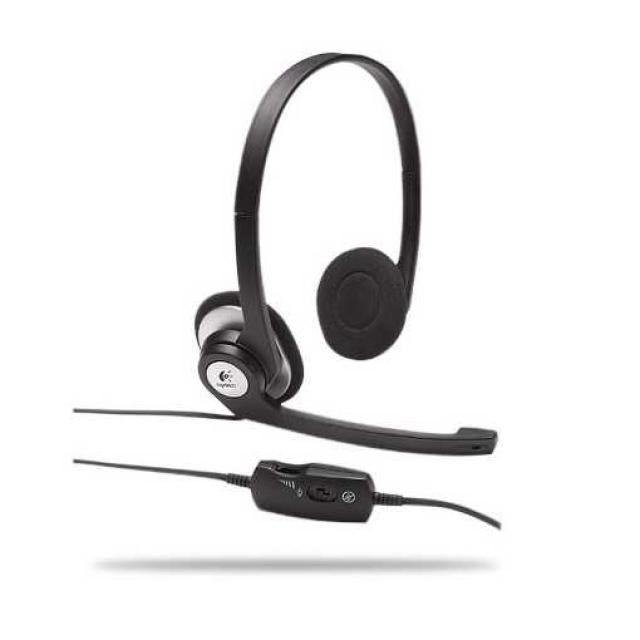microphone: (378, 429, 496, 457)
